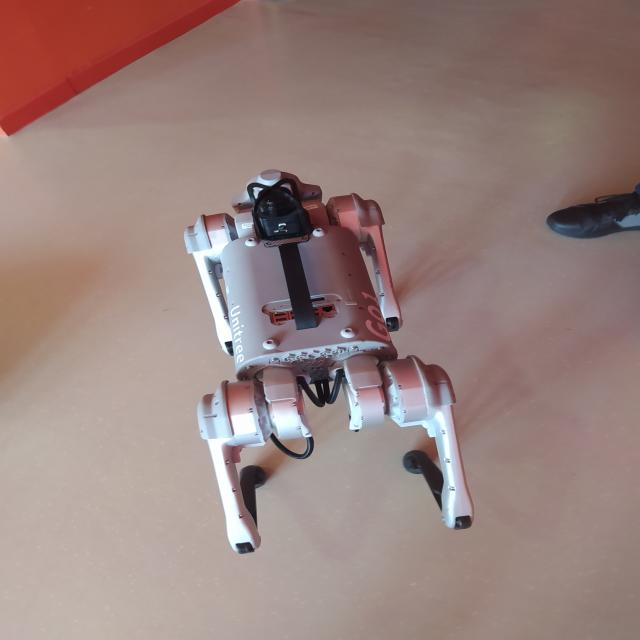unitree-go1-robot: (176, 168, 484, 574)
